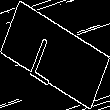L_NE: (36, 25, 74, 85)
